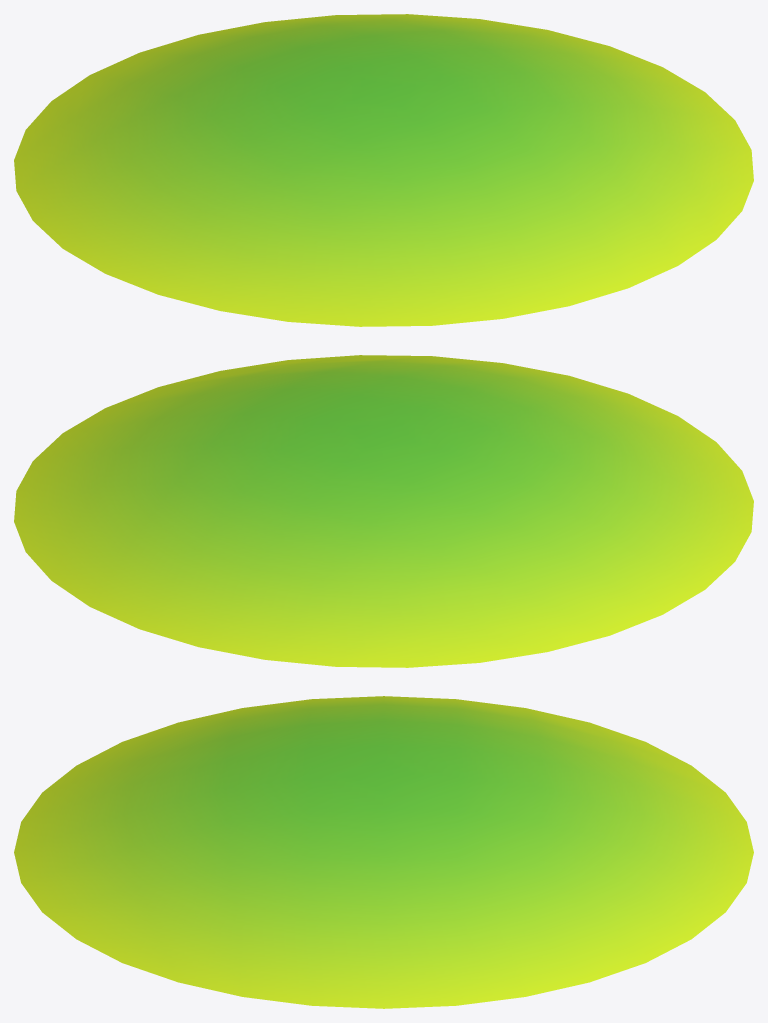
The model's file is ground_011.glb.
3 renders of one model, top to bottom at view 1: azimuth 30°, elevation 25°; view 2: azimuth 150°, elevation 25°; view 3: azimuth 270°, elevation 25°, orthographic.
Visible parts, largest first — view 1: ground_011; view 2: ground_011; view 3: ground_011.
Boxes of the visible parts, x1,y1,x2,y2 form: ground_011: (14, 14, 753, 326); ground_011: (14, 355, 753, 667); ground_011: (14, 696, 753, 1008).
Size of the model in its own units: 24.15 by 2.8 by 24.15.
1 material, 1 textured.
